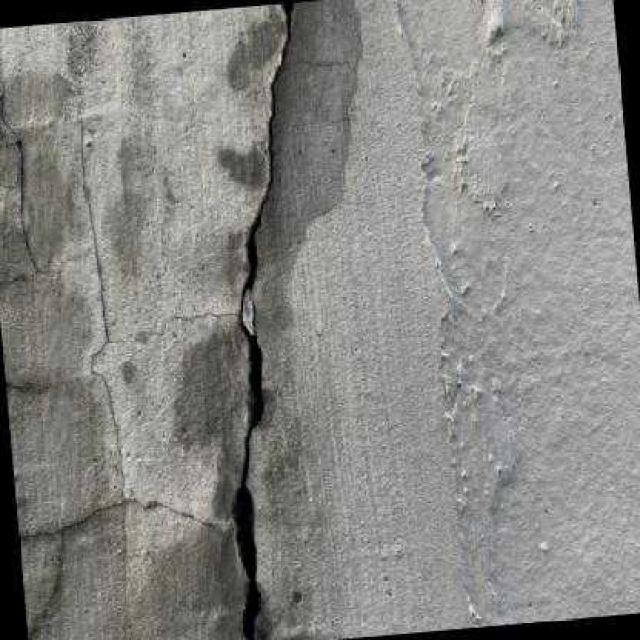D00: (226, 1, 294, 640)
